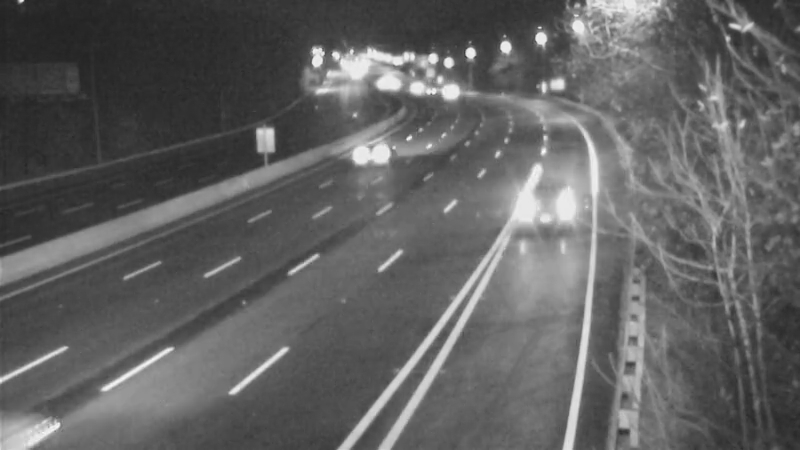vehicle: (333, 116, 413, 196), (506, 170, 586, 250), (358, 59, 408, 109), (389, 60, 439, 110), (402, 68, 452, 118), (424, 67, 474, 117)
